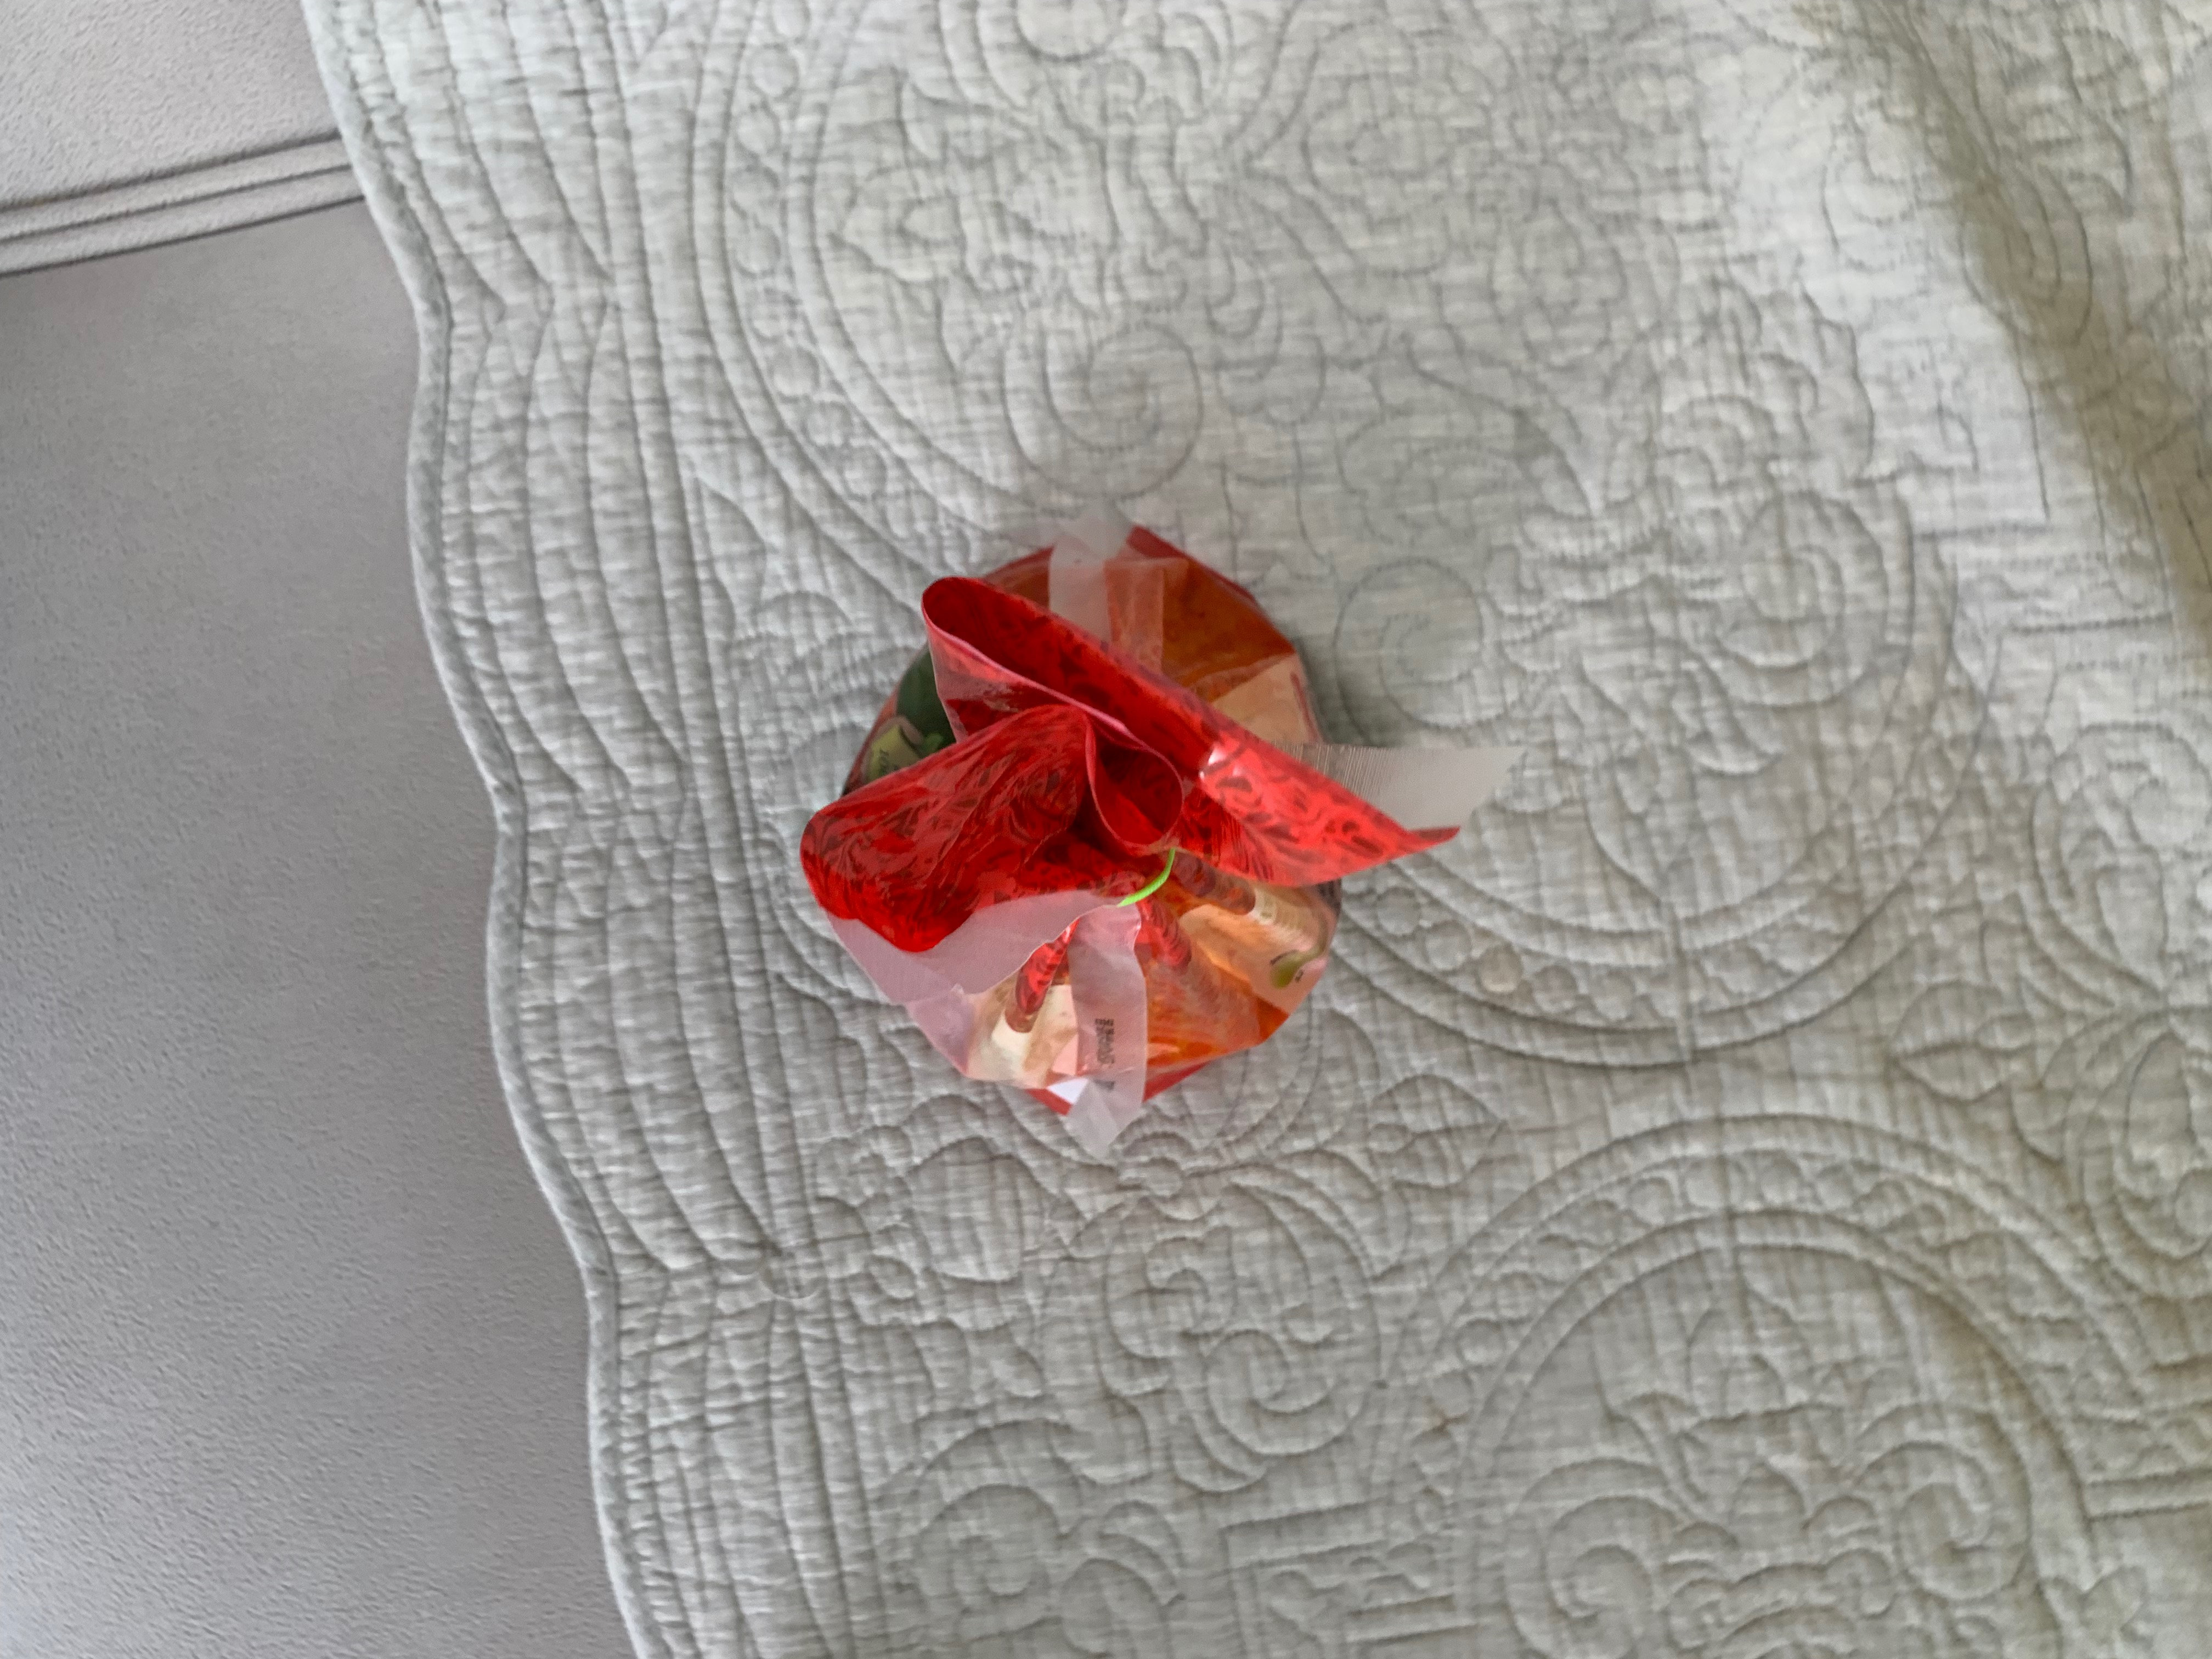kimchi: (799, 535, 1453, 1108)
